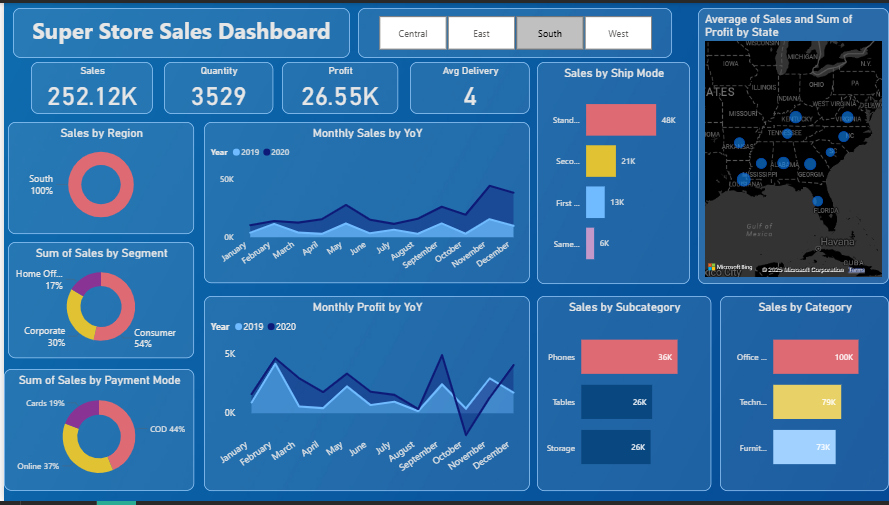

The page's visual inventory and layout, read from the dashboard file:
{"tool":"powerbi","page":{"name":"Page 1","canvas":[1280,720],"ordinal":0},"visuals":[{"type":"clusteredBarChart","title":" Sales by Category","fields":{"Category":["Superstore_sales.Category"],"Y":["Sum(Superstore_sales.Sales)"]},"box":[1035.2,423.6,244.3,281.9],"z":0},{"type":"clusteredBarChart","title":" Sales by Subcategory","fields":{"Y":["Sum(Superstore_sales.Sales)"],"Category":["Superstore_sales.Sub-Category"]},"box":[770.6,423.6,251.6,281.9],"z":1000},{"type":"clusteredBarChart","title":" Sales by Ship Mode","fields":{"Y":["Sum(Superstore_sales.Sales)"],"Category":["Superstore_sales.Ship Mode"]},"box":[770.6,85.3,221.2,321],"z":2000},{"type":"stackedAreaChart","title":"Monthly Sales by YoY","fields":{"Category":["Superstore_sales.Order Date.Variation.Date Hierarchy.Month"],"Y":["Sum(Superstore_sales.Sales)"],"Series":["Superstore_sales.Order Date.Variation.Date Hierarchy.Year"]},"box":[289.2,172,471.3,232.8],"z":3000},{"type":"stackedAreaChart","title":"Monthly Profit by YoY","fields":{"Category":["Superstore_sales.Order Date.Variation.Date Hierarchy.Month"],"Series":["Superstore_sales.Order Date.Variation.Date Hierarchy.Year"],"Y":["Sum(Superstore_sales.Profit)"]},"box":[289.2,423.6,471.3,281.9],"z":4000},{"type":"map","fields":{"Category":["Superstore_sales.State"],"Size":["Avg(Superstore_sales.Sales)"]},"box":[1003.4,7.2,276.1,399],"z":5000},{"type":"donutChart","fields":{"Category":["Superstore_sales.Segment"],"Y":["Sum(Superstore_sales.Sales)"]},"box":[5.8,345.5,268.9,167.7],"z":6000},{"type":"donutChart","fields":{"Y":["Sum(Superstore_sales.Sales)"],"Category":["Superstore_sales.Payment Mode"]},"box":[0,529.2,274.7,176.4],"z":7000},{"type":"textbox","box":[13,7.2,487.2,72.3],"z":8000},{"type":"card","title":"Sales","fields":{"Values":["Sum(Superstore_sales.Sales)"]},"box":[39,85.3,176.4,75.2],"z":9000},{"type":"card","title":"Quantity","fields":{"Values":["Sum(Superstore_sales.Quantity)"]},"box":[231.3,85.3,157.6,75.2],"z":10000},{"type":"card","title":"Profit","fields":{"Values":["Sum(Superstore_sales.Profit)"]},"box":[401.9,85.3,167.7,75.2],"z":11000},{"type":"card","title":"Avg Delivery","fields":{"Values":["Avg(Superstore_sales.AvgDelivery)"]},"box":[587,85.3,173.5,75.2],"z":12000},{"type":"donutChart","title":" Sales by Region","fields":{"Y":["Sum(Superstore_sales.Sales)"],"Category":["Superstore_sales.Region"]},"box":[5.8,172,268.9,161.9],"z":13000},{"type":"slicer","fields":{"Values":["Superstore_sales.Region"]},"box":[511.8,7.2,454,72.3],"z":14000}]}

Visuals, with their boxes in screenshot pixels (x1, y1, x2, y2), scaled from the page's 1280x720 canvas onto the 889x505 screenshot:
" Sales by Category" clusteredBarChart: 719,297,888,495
" Sales by Subcategory" clusteredBarChart: 535,297,710,495
" Sales by Ship Mode" clusteredBarChart: 535,60,689,285
"Monthly Sales by YoY" stackedAreaChart: 201,121,528,284
"Monthly Profit by YoY" stackedAreaChart: 201,297,528,495
map - Superstore_sales.State x Avg(Superstore_sales.Sales): 697,5,888,285
donutChart - Superstore_sales.Segment x Sum(Superstore_sales.Sales): 4,242,191,360
donutChart - Sum(Superstore_sales.Sales) x Superstore_sales.Payment Mode: 0,371,191,495
textbox: 9,5,347,56
"Sales" card: 27,60,150,113
"Quantity" card: 161,60,270,113
"Profit" card: 279,60,396,113
"Avg Delivery" card: 408,60,528,113
" Sales by Region" donutChart: 4,121,191,234
slicer - Superstore_sales.Region: 355,5,671,56
